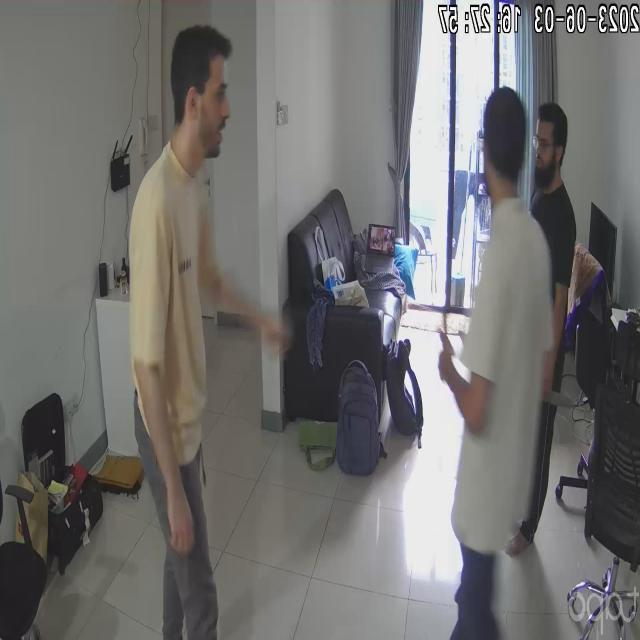Knife: (544, 378, 578, 428)
